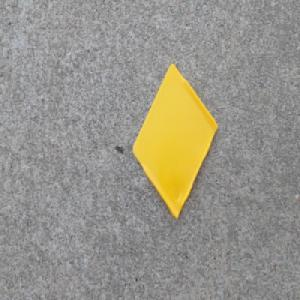PlasticPart: (132, 61, 220, 220)
